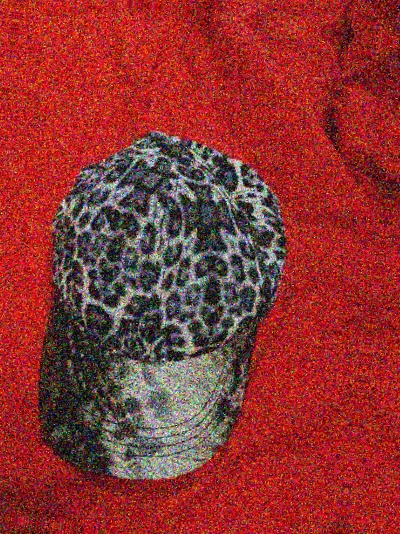Hat: (0, 70, 316, 515)
